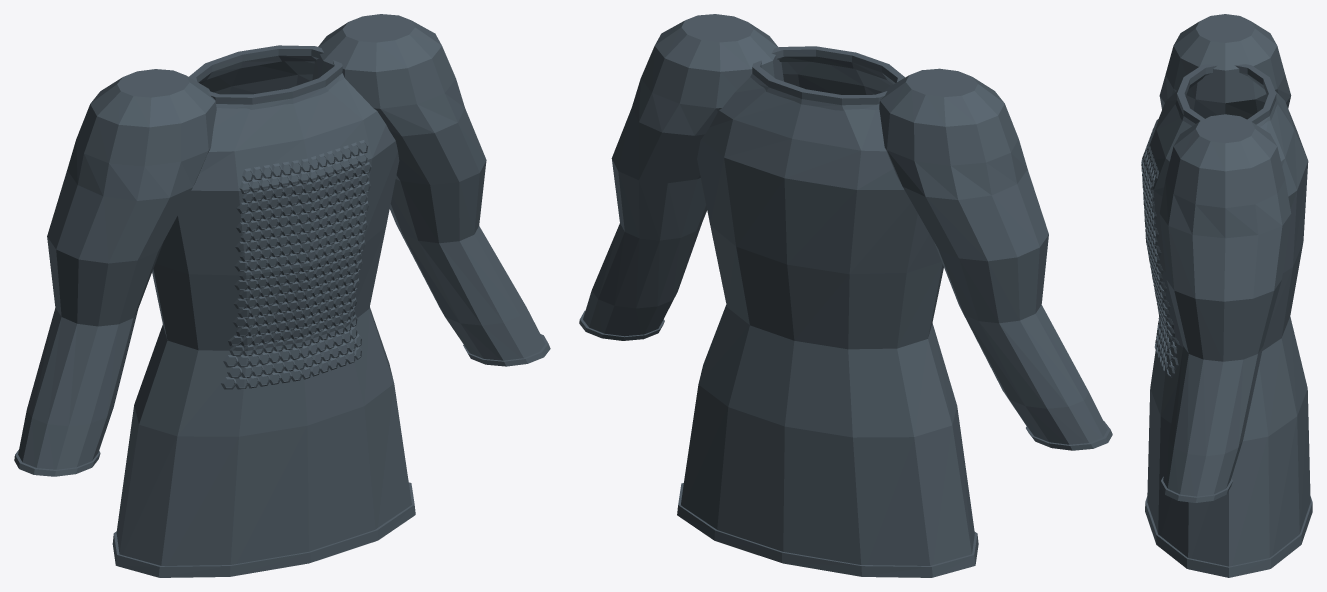
The model's file is chain_chest-female.glb.
3 views of the same model, side by side, from view 1: azimuth 30°, elevation 25°; view 2: azimuth 150°, elevation 25°; view 3: azimuth 270°, elevation 25° (orthographic). The views are drawn at different scales.
Parts seen in each view (by area): view 1: chain tunic torso, chain long sleeve -1, chain long sleeve 1, chain woven coverage on chain tunic torso, Fitted tunic neckline, Bound tunic hem, Sleeve cuff binding -1; view 2: chain tunic torso, chain long sleeve -1, chain long sleeve 1, Fitted tunic neckline, Bound tunic hem; view 3: chain long sleeve 1, chain tunic torso, chain long sleeve -1, chain woven coverage on chain tunic torso, Bound tunic hem, Fitted tunic neckline, Sleeve cuff binding 1.
Boxes of the visible parts, x1,y1,x2,y2 form: chain tunic torso: (116,61,411,577); chain long sleeve -1: (18,69,216,469); chain long sleeve 1: (312,14,545,360); chain woven coverage on chain tunic torso: (220,140,371,389); Fitted tunic neckline: (189,45,344,109); Bound tunic hem: (112,482,415,577); Sleeve cuff binding -1: (14,450,100,476); chain tunic torso: (681,62,974,577); chain long sleeve -1: (879,68,1107,444); chain long sleeve 1: (583,14,783,336); Fitted tunic neckline: (750,46,904,110); Bound tunic hem: (677,483,978,577); chain long sleeve 1: (1159,114,1291,496); chain tunic torso: (1142,90,1310,577); chain long sleeve -1: (1159,14,1291,119); chain woven coverage on chain tunic torso: (1141,119,1180,377); Bound tunic hem: (1145,496,1312,577); Fitted tunic neckline: (1175,64,1277,126); Sleeve cuff binding 1: (1160,476,1232,502).
Bounding box in the file's own units: 3.9 × 3.37 × 1.21.
